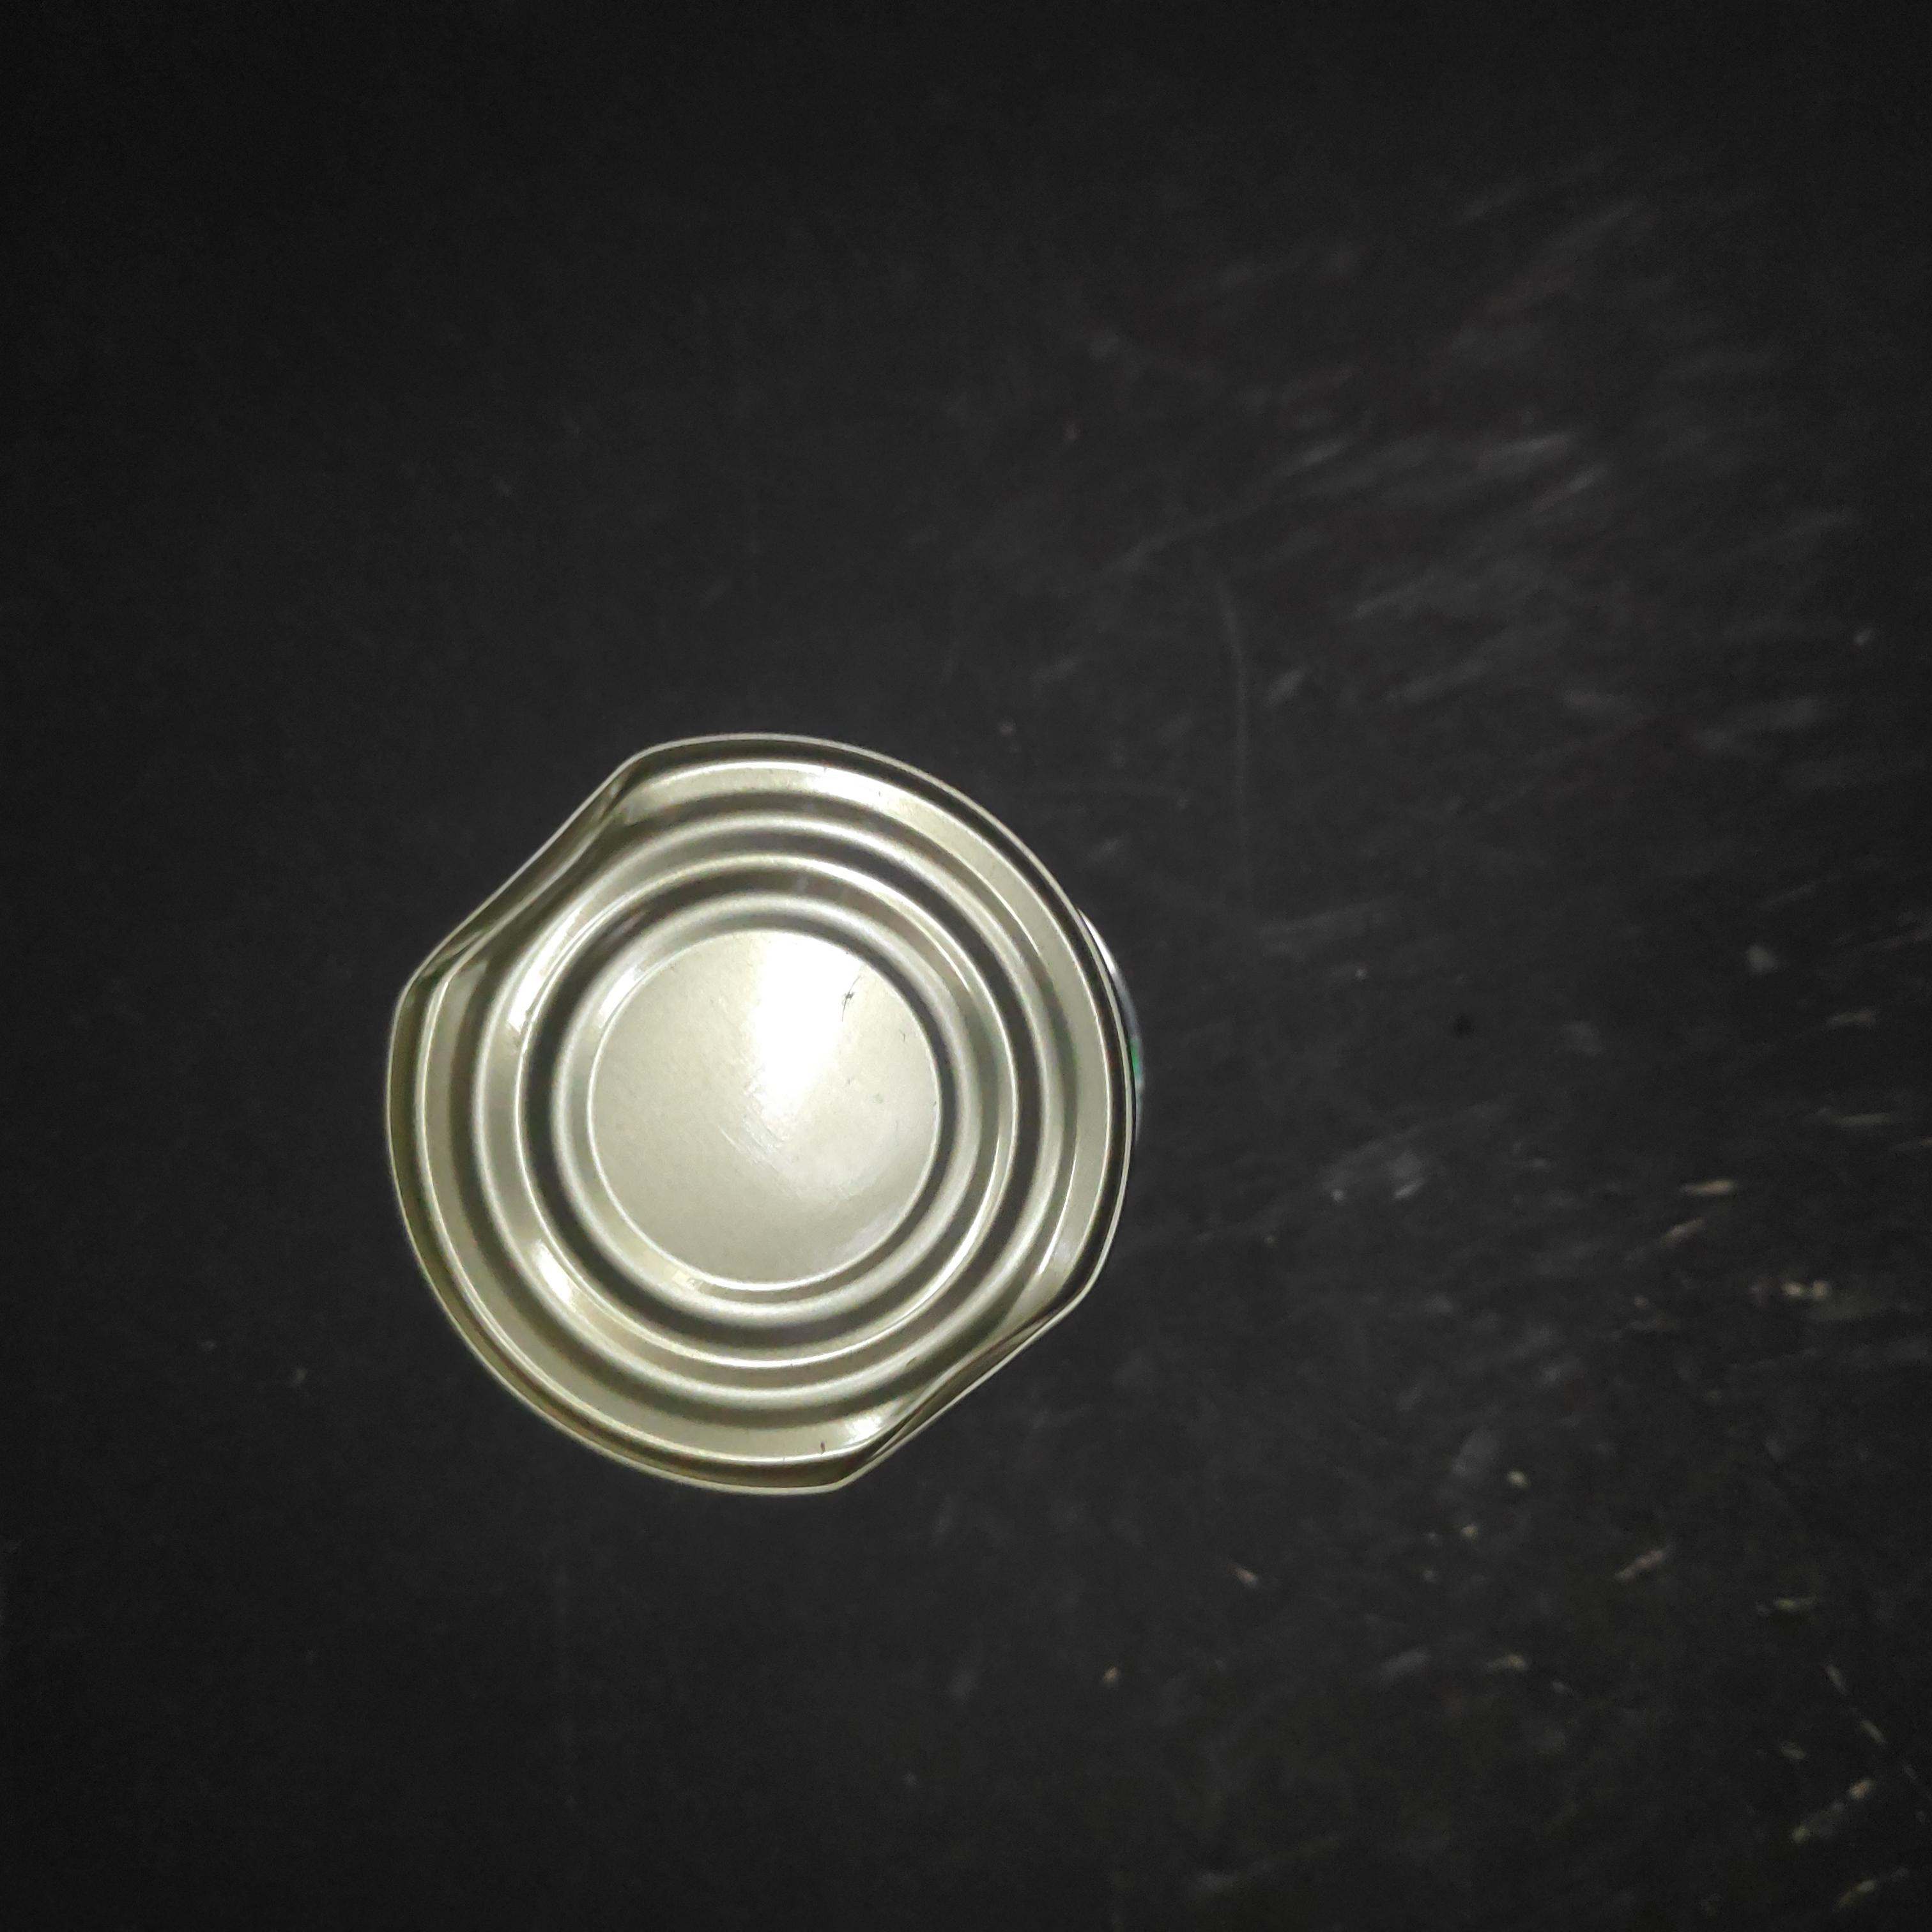Minor Defect: (787, 428, 1569, 1212)
